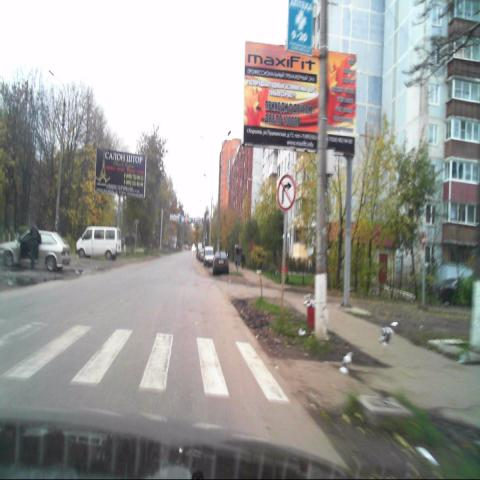3_18: (277, 175, 296, 212)
